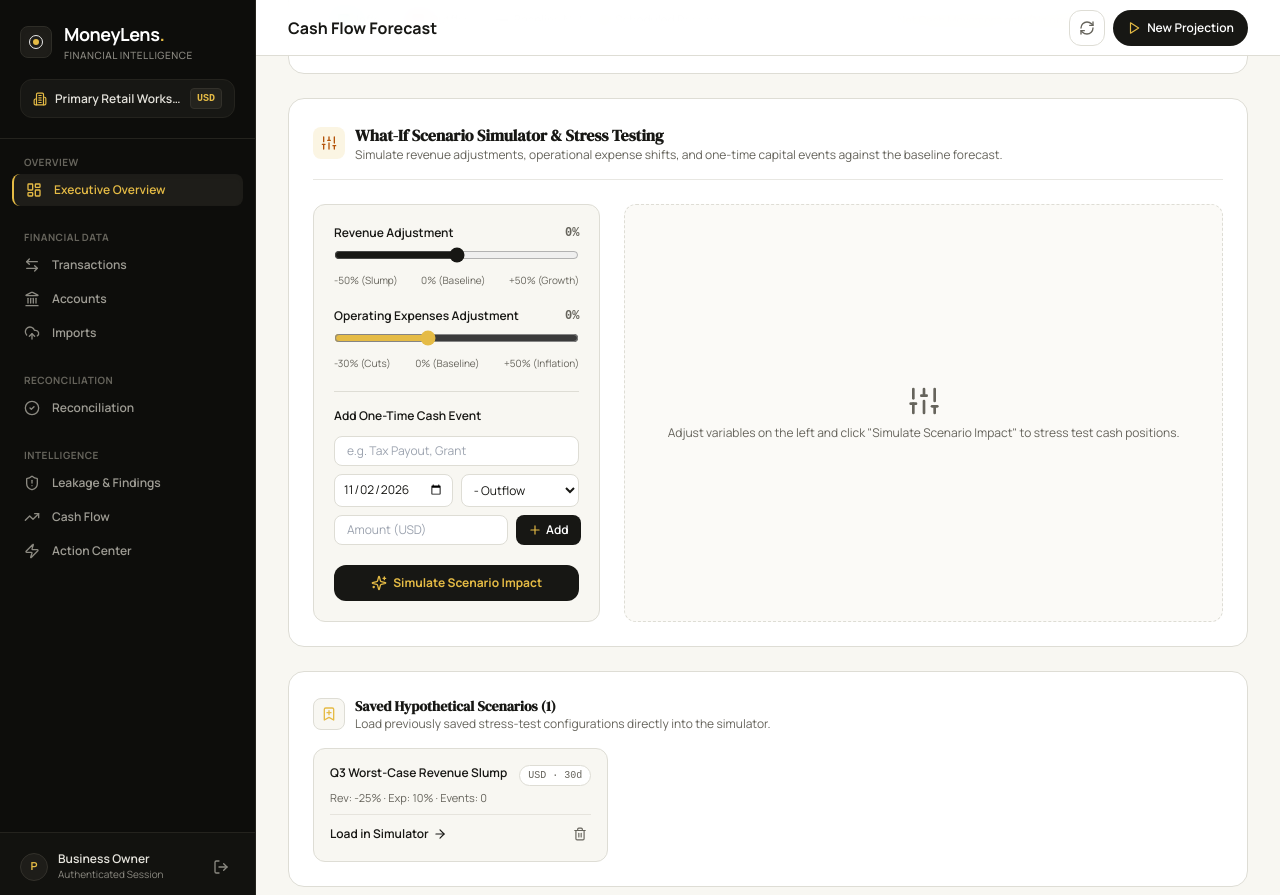
Test: CashFlowDashboard Component Suite › interacts with scenario simulator, adds one-time event, and displays simulated deltas
(page scrolled)
Expected: the heading "What-If Scenario Simulator & Stress Testing" is shown, 355,124 -> 664,146
# Add One-Time Cash Event
In the field with placeholder "e.g. Tax Payout, Grant": [457, 451] box 334,436 -> 579,466, type "Annual Equipment Purchase"
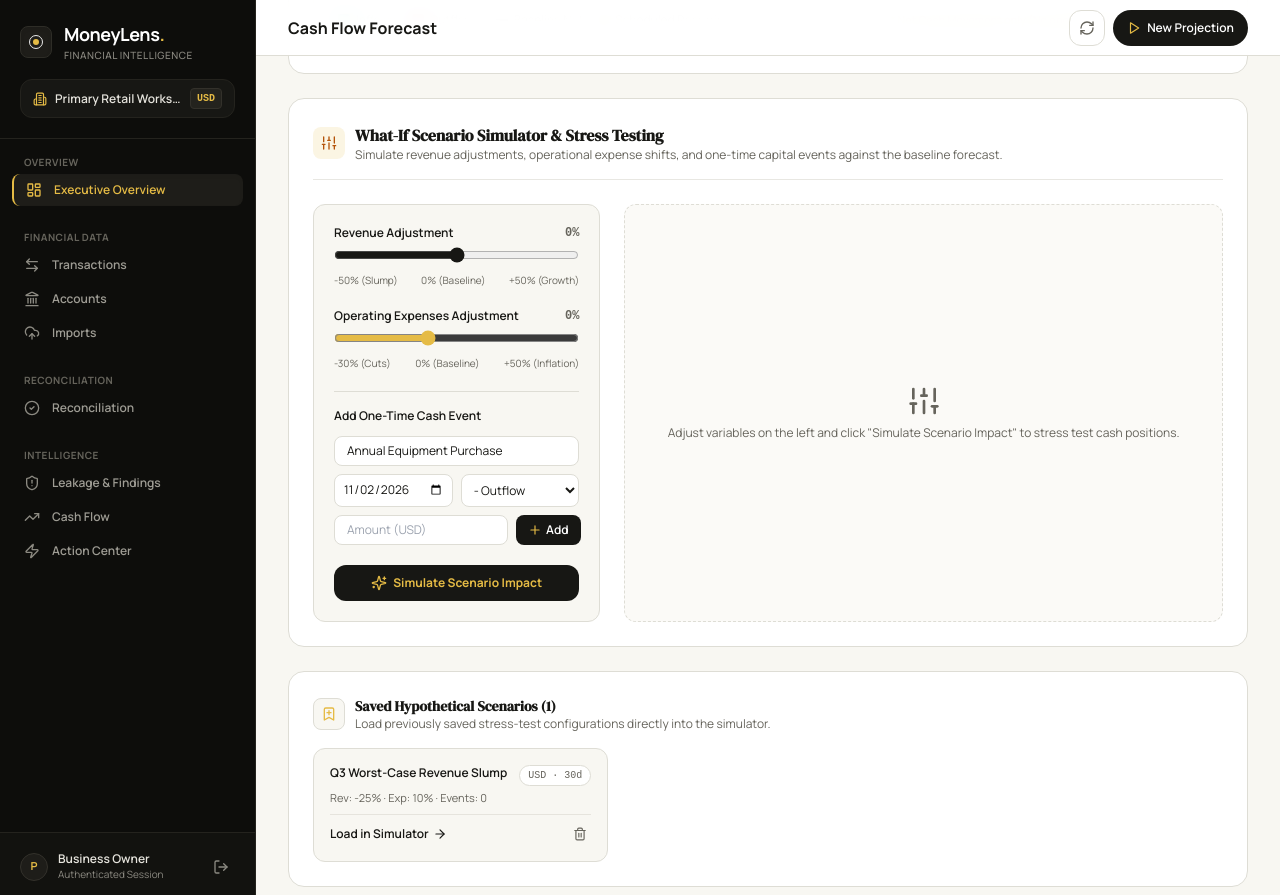
In the number field with placeholder "Amount (USD)": [421, 530] box 334,515 -> 508,545, type "3500"
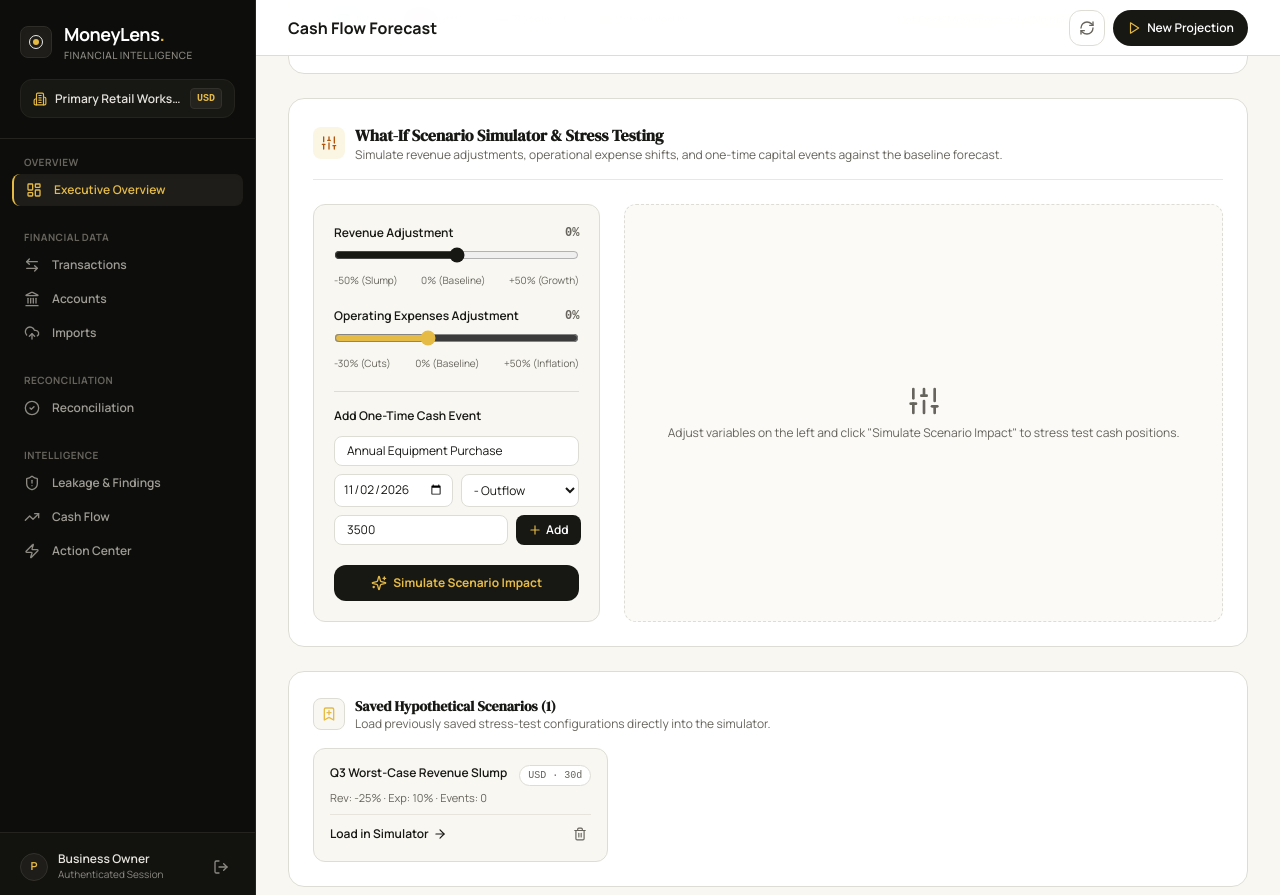
Click the button "Add": [548, 530] box 516,515 -> 580,545
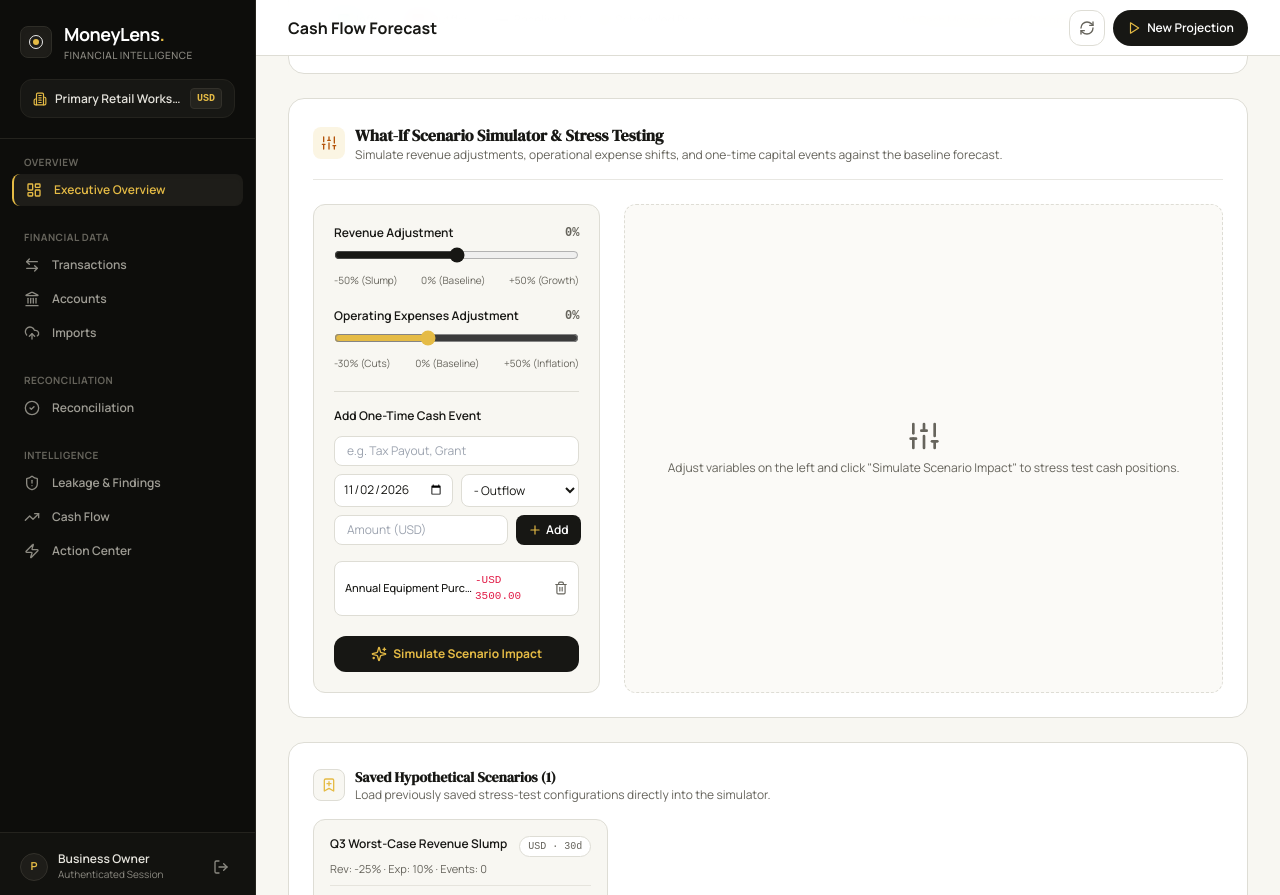
Expected: the text "Annual Equipment Purchase (2026-11-02)" is shown, 345,580 -> 475,596
# Trigger Simulation
Click the button "Simulate Scenario Impact": [457, 654] box 334,636 -> 579,672
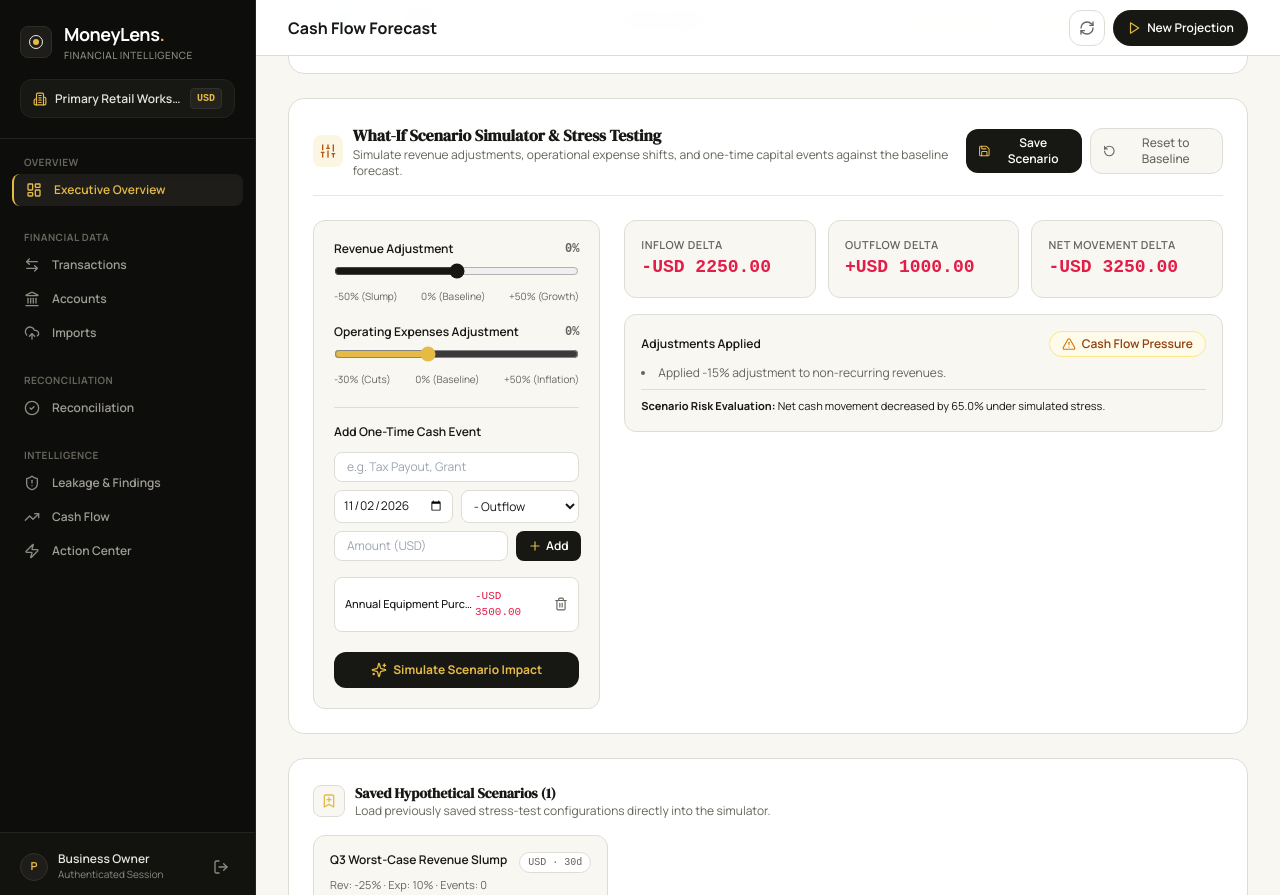
Expected: the text "Inflow Delta" is shown, 641,237 -> 723,252
Expected: the text "-USD 2250.00" is shown, 641,257 -> 771,277
Expected: the text "+USD 1000.00" is shown, 845,257 -> 975,277
# Reset Scenario
Click the button "Reset to Baseline": [1156, 151] box 1090,128 -> 1223,174
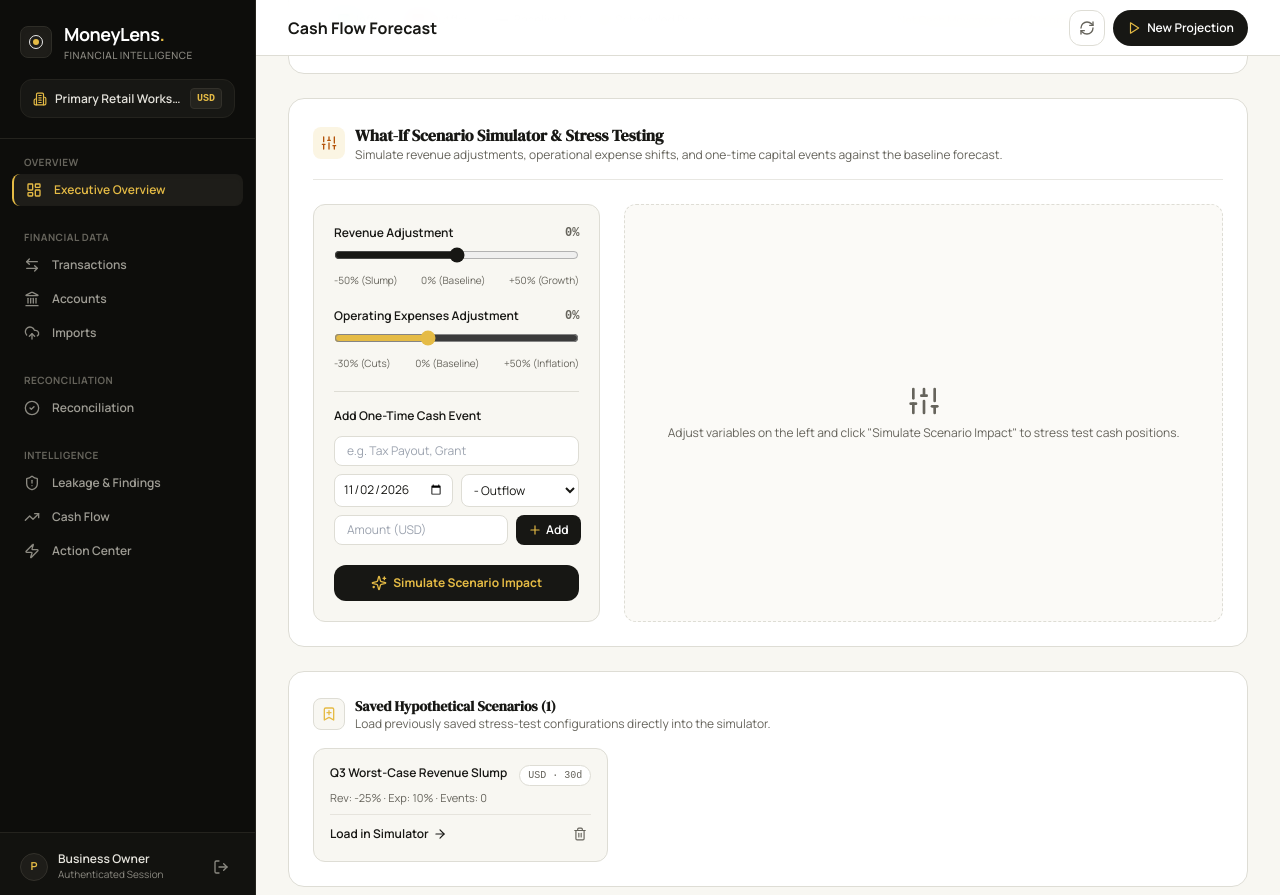
Expected: the text "Adjust variables on the left and click \"Simulate Scenario Impact\"" is shown, 668,424 -> 1180,441
